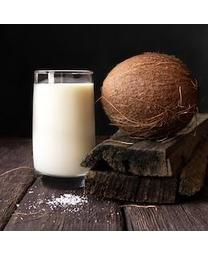coconut: (100, 53, 198, 137)
